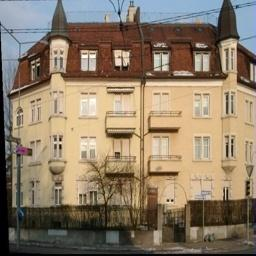building: (11, 0, 256, 241)
